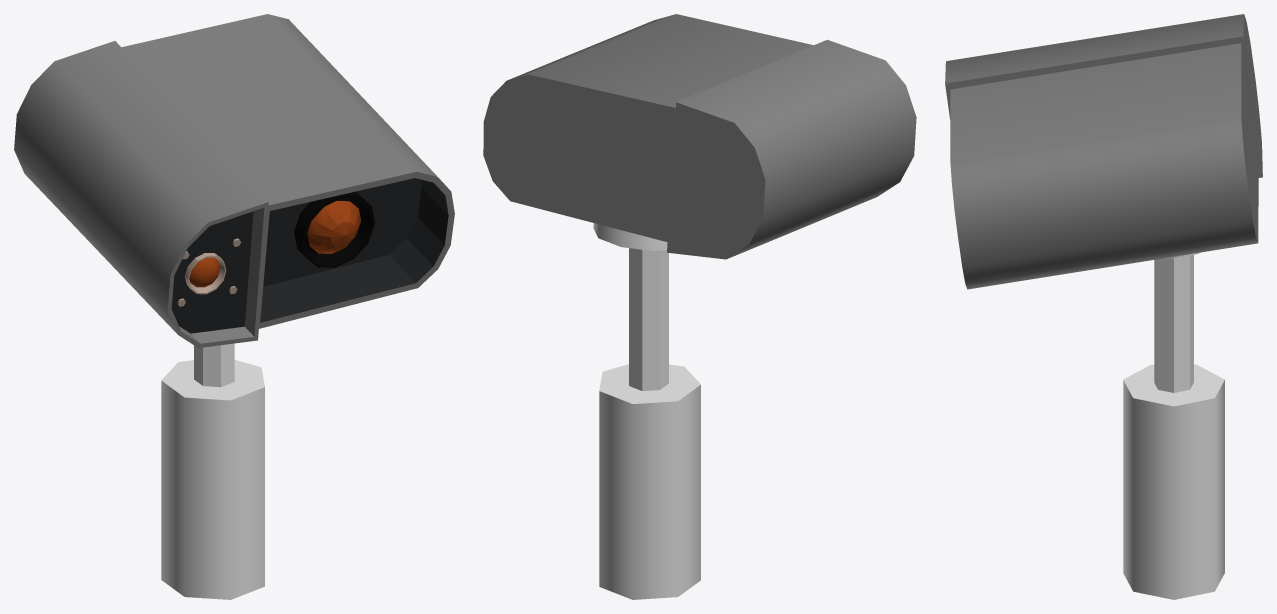
The model's file is KF_Kalonji_SM_Rooftop_SecurityCamera_03.fbx.
3 renders of one model, left to right at view 1: azimuth 30°, elevation 25°; view 2: azimuth 150°, elevation 25°; view 3: azimuth 270°, elevation 25°, orthographic. The views are drawn at different scales.
Visible parts, largest first — view 1: Outside, Stick, zoom, zoom02; view 2: Outside, Stick, Base; view 3: Outside, Stick.
Part boxes in pixels (x1=…): Outside: x1=14, y1=14, x2=454, y2=347; Stick: x1=161, y1=343, x2=264, y2=599; zoom: x1=294, y1=191, x2=375, y2=267; zoom02: x1=184, y1=253, x2=226, y2=294; Outside: x1=483, y1=14, x2=916, y2=259; Stick: x1=599, y1=248, x2=700, y2=599; Base: x1=593, y1=223, x2=667, y2=250; Outside: x1=945, y1=14, x2=1262, y2=289; Stick: x1=1123, y1=255, x2=1224, y2=599.
Size of the model in its own units: 39.53 by 69.07 by 38.92.
